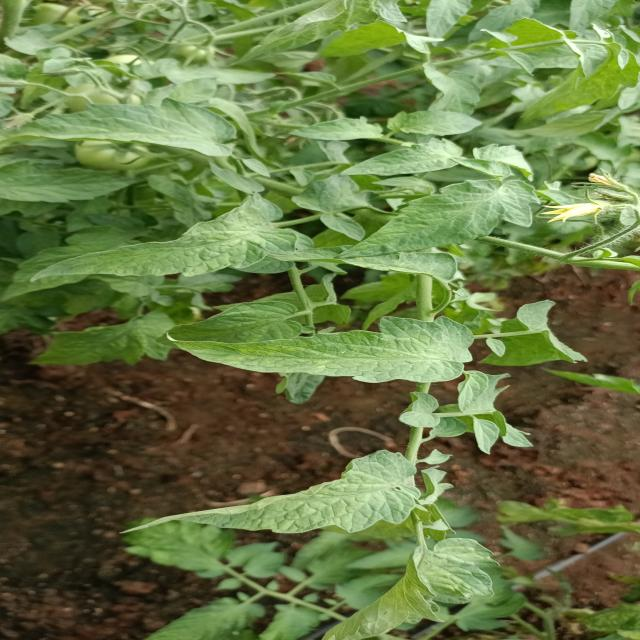Healthy Leaf: (120, 431, 428, 551), (16, 196, 298, 294), (158, 313, 487, 392), (340, 178, 539, 261), (8, 98, 252, 162), (341, 140, 452, 180), (292, 114, 382, 144), (393, 104, 479, 135)
